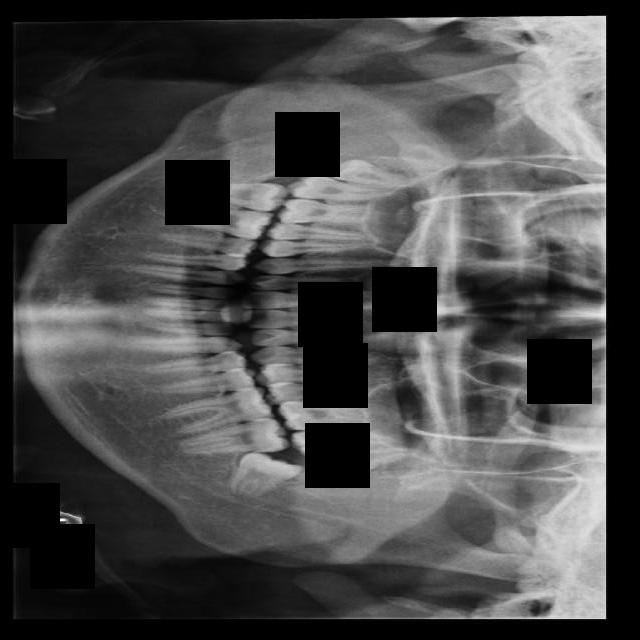3M ESPE Implant: (323, 154, 431, 194)
73: (16, 622, 29, 636)
BioHorizons Implant: (289, 426, 406, 460)
BioLife Implant: (329, 438, 432, 479)
Biomet 3i Implant: (215, 432, 304, 511)
Blue Sky Bio Implant: (173, 417, 293, 455)
Caries: (285, 173, 409, 206)
Implant: (179, 181, 291, 212)
